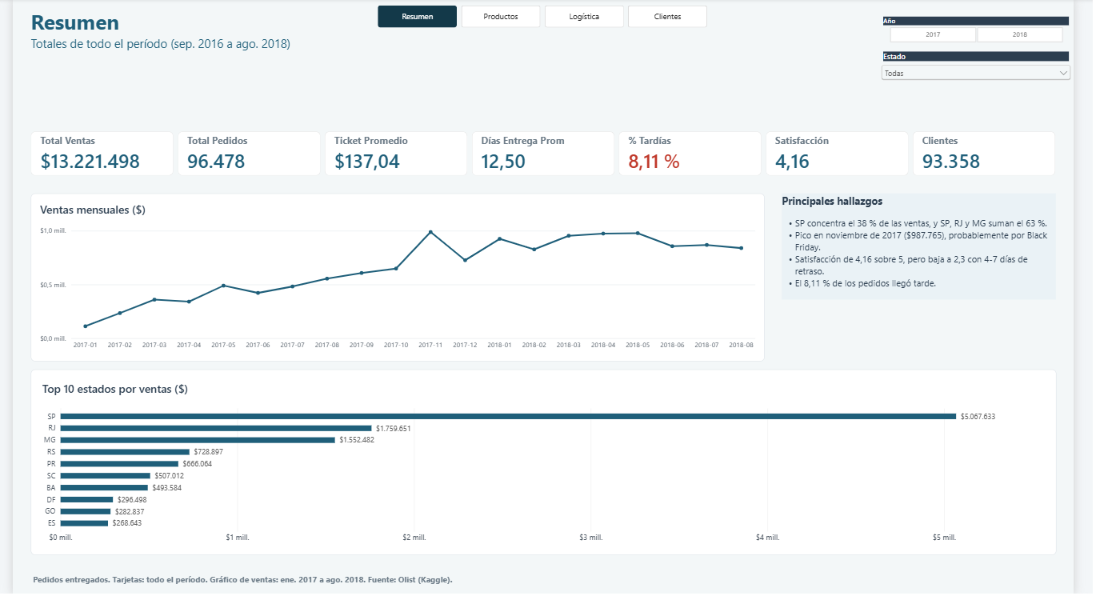

The page's visual inventory and layout, read from the dashboard file:
{"tool":"powerbi","page":{"name":"Resumen ","canvas":[1920,1080],"ordinal":0},"visuals":[{"type":"cardVisual","fields":{"Data":["v_pedidos.Total Ventas","v_pedidos.Total Pedidos","v_pedidos.Ticket Promedio","v_pedidos.Días Entrega Prom","v_pedidos.% Tardías","v_pedidos.Satisfacción","v_pedidos.Clientes"]},"box":[32,240,1856,80],"z":0},{"type":"lineChart","title":"Ventas mensuales ($)","fields":{"Category":["Calendario.AñoMes"],"Y":["v_pedidos.Total Ventas"]},"box":[32,352,1328,304],"z":1000},{"type":"clusteredBarChart","title":"Top 10 estados por ventas ($)","fields":{"Category":["v_pedidos.estado"],"Y":["v_pedidos.Total Ventas"]},"box":[32,672,1856,336],"z":2000},{"type":"slicer","fields":{"Values":["Calendario.Año"]},"box":[1568,32,352,48],"z":3000},{"type":"slicer","fields":{"Values":["v_pedidos.estado"]},"box":[1568,96,352,80],"z":4000},{"type":"textbox","box":[32,16,592,80],"z":5000},{"type":"pageNavigator","box":[660,12,596,40],"z":6000},{"type":"textbox","box":[1392,352,496,192],"z":7000},{"type":"textbox","box":[32,1040,1856,32],"z":8000}]}

Visuals, with their boxes on the page's 1920x1080 design canvas (x1, y1, x2, y2). These are canvas units, not pixel positions in the 1093x594 screenshot, which may show the page scaled, cropped or inside an application window:
cardVisual - v_pedidos.Total Ventas x v_pedidos.Total Pedidos: [32,240,1888,320]
"Ventas mensuales ($)" lineChart: [32,352,1360,656]
"Top 10 estados por ventas ($)" clusteredBarChart: [32,672,1888,1008]
slicer - Calendario.Año: [1568,32,1920,80]
slicer - v_pedidos.estado: [1568,96,1920,176]
textbox: [32,16,624,96]
pageNavigator: [660,12,1256,52]
textbox: [1392,352,1888,544]
textbox: [32,1040,1888,1072]
